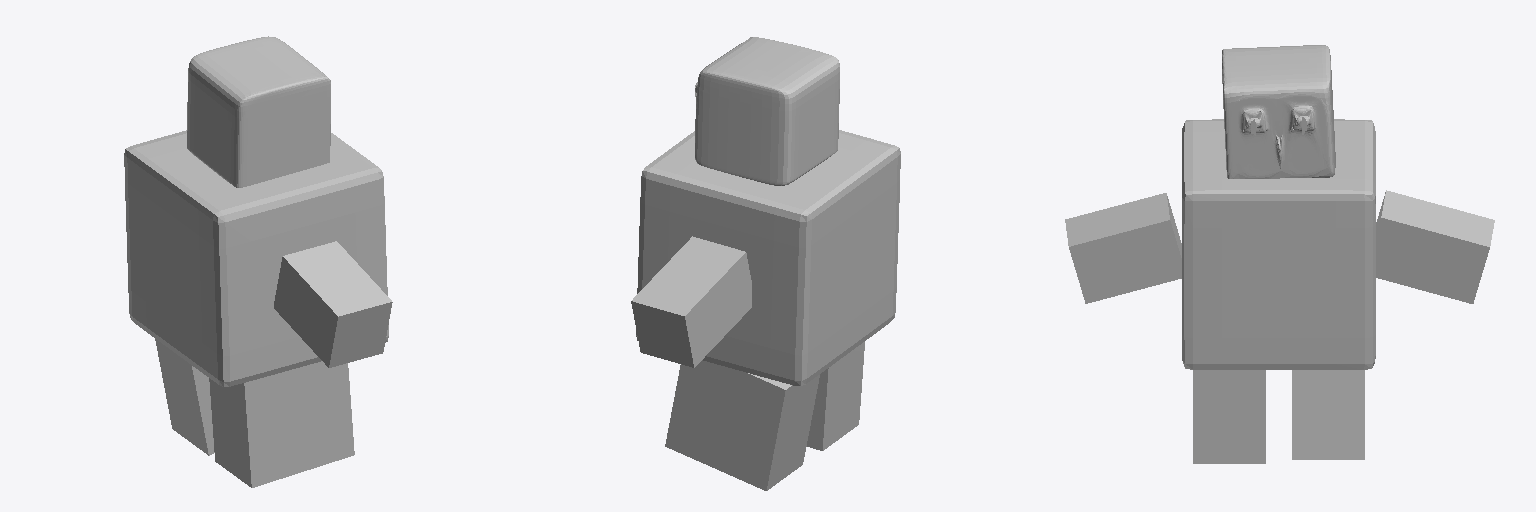
The picture shows the model from 3 angles: view 1: azimuth 30°, elevation 25°; view 2: azimuth 150°, elevation 25°; view 3: azimuth 270°, elevation 25°; orthographic projection.
Visible parts, largest first — view 1: Cube_Cube.001, Cube.001_Cube.002, Cube.002_Cube.003, Cube.005_Cube.007, Cube.003_Cube.004; view 2: Cube_Cube.001, Cube.001_Cube.002, Cube.003_Cube.004, Cube.004_Cube.005, Cube.002_Cube.003; view 3: Cube_Cube.001, Cube.001_Cube.002, Cube.004_Cube.005, Cube.005_Cube.007, Cube.002_Cube.003, Cube.003_Cube.004.
Part boxes in pixels (bbox=[...]): Cube_Cube.001: bbox=[124, 130, 388, 386]; Cube.001_Cube.002: bbox=[187, 36, 330, 187]; Cube.002_Cube.003: bbox=[209, 361, 354, 487]; Cube.005_Cube.007: bbox=[274, 241, 392, 367]; Cube.003_Cube.004: bbox=[155, 339, 214, 455]; Cube_Cube.001: bbox=[636, 130, 900, 385]; Cube.001_Cube.002: bbox=[695, 37, 839, 185]; Cube.003_Cube.004: bbox=[665, 360, 819, 490]; Cube.004_Cube.005: bbox=[631, 236, 751, 367]; Cube.002_Cube.003: bbox=[807, 342, 864, 450]; Cube_Cube.001: bbox=[1182, 119, 1375, 369]; Cube.001_Cube.002: bbox=[1222, 45, 1335, 178]; Cube.004_Cube.005: bbox=[1376, 190, 1494, 303]; Cube.005_Cube.007: bbox=[1065, 193, 1181, 303]; Cube.002_Cube.003: bbox=[1193, 370, 1265, 463]; Cube.003_Cube.004: bbox=[1292, 370, 1364, 459].
Bounding box in the file's own units: 1.5 × 3.21 × 3.22.